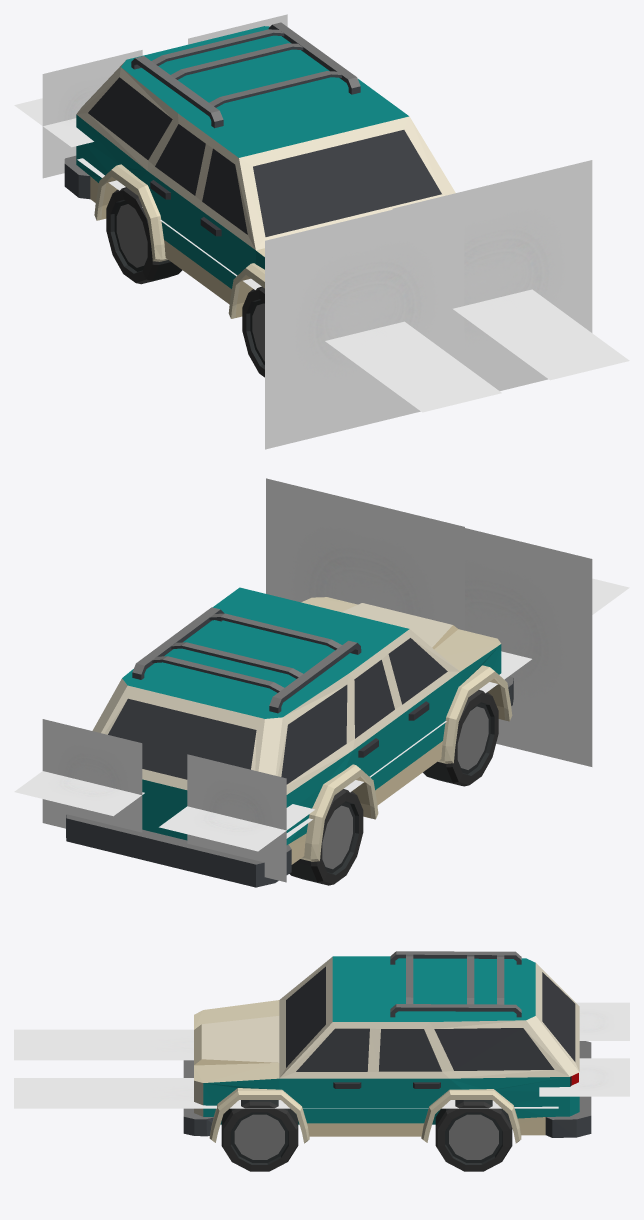
The model's file is SnowWagonSuburbs2.fbx.
The picture shows the model from 3 angles, top to bottom: view 1: azimuth 30°, elevation 25°; view 2: azimuth 150°, elevation 25°; view 3: azimuth 270°, elevation 25°; orthographic projection. The views are drawn at different scales.
Visible parts, largest first — view 1: StopLightBillboard (×7), BodyMesh, Wheel (×2); view 2: BodyMesh, StopLightBillboard (×7), Wheel (×2); view 3: BodyMesh, StopLightBillboard (×4), Wheel (×2).
Boxes of the visible parts, box(x1,y1,x2,y2) form: StopLightBillboard (×7): box(14, 14, 629, 449); BodyMesh: box(64, 22, 455, 318); Wheel (×2): box(106, 187, 264, 377); BodyMesh: box(66, 587, 513, 887); StopLightBillboard (×7): box(14, 478, 629, 882); Wheel (×2): box(289, 690, 498, 885); BodyMesh: box(183, 951, 591, 1143); StopLightBillboard (×4): box(14, 1002, 629, 1108); Wheel (×2): box(221, 1100, 512, 1171).
Size of the model in its own units: 1.64 by 1.01 by 3.39.
3 materials, 3 textured.
